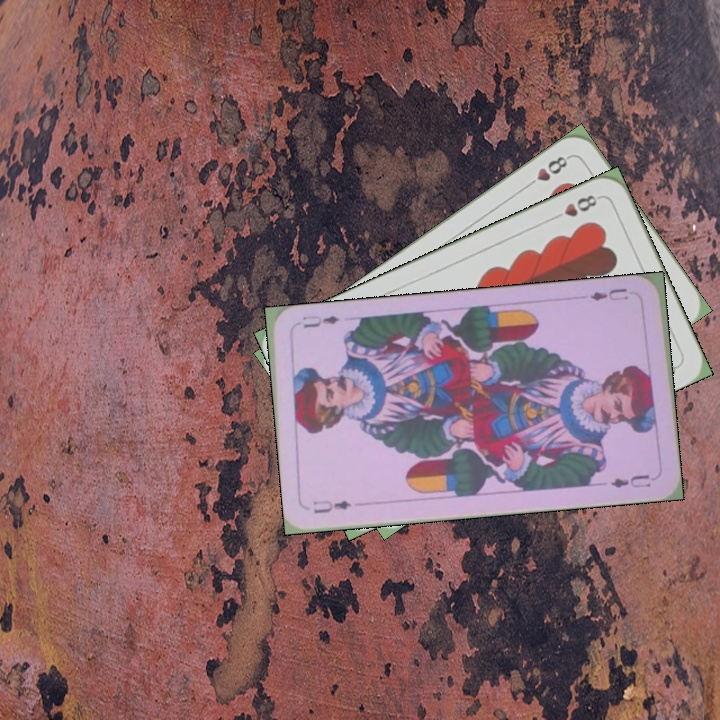EU: (309, 495, 354, 516), (586, 284, 631, 304)
H8: (521, 151, 573, 191), (547, 190, 603, 223)
